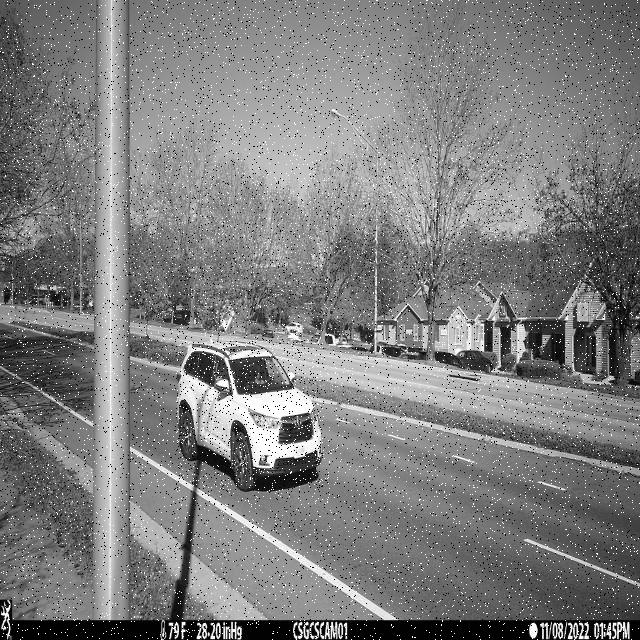SUV: (176, 340, 323, 493)
